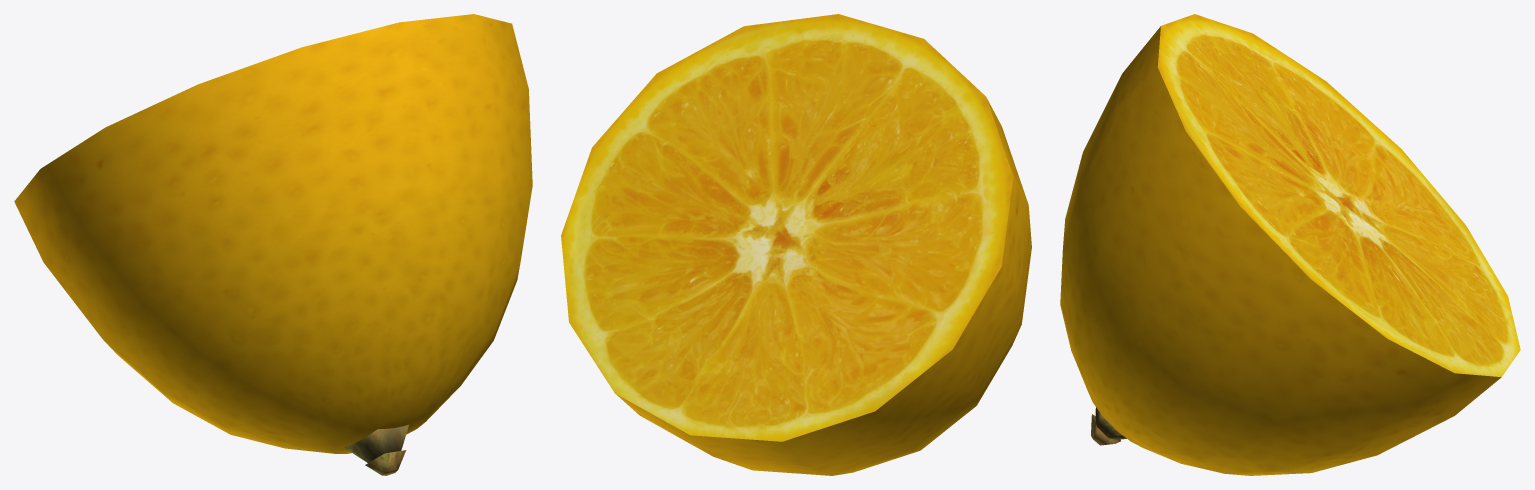
Rendered from LemonHalfStart.fbx.
3 views of the same model, side by side, from view 1: azimuth 30°, elevation 25°; view 2: azimuth 150°, elevation 25°; view 3: azimuth 270°, elevation 25° (orthographic). The views are drawn at different scales.
Visible parts, largest first — view 1: Default_Layer; view 2: Default_Layer; view 3: Default_Layer.
Part boxes in pixels (x1,y1,x2,y2): Default_Layer: [14, 14, 532, 475]; Default_Layer: [561, 14, 1031, 475]; Default_Layer: [1060, 14, 1520, 475].
Bounding box in the file's own units: 16.34 × 14.8 × 15.1.
